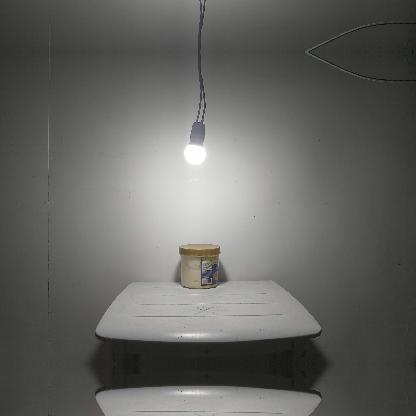Lady-s-Choice: (178, 244, 220, 288)
